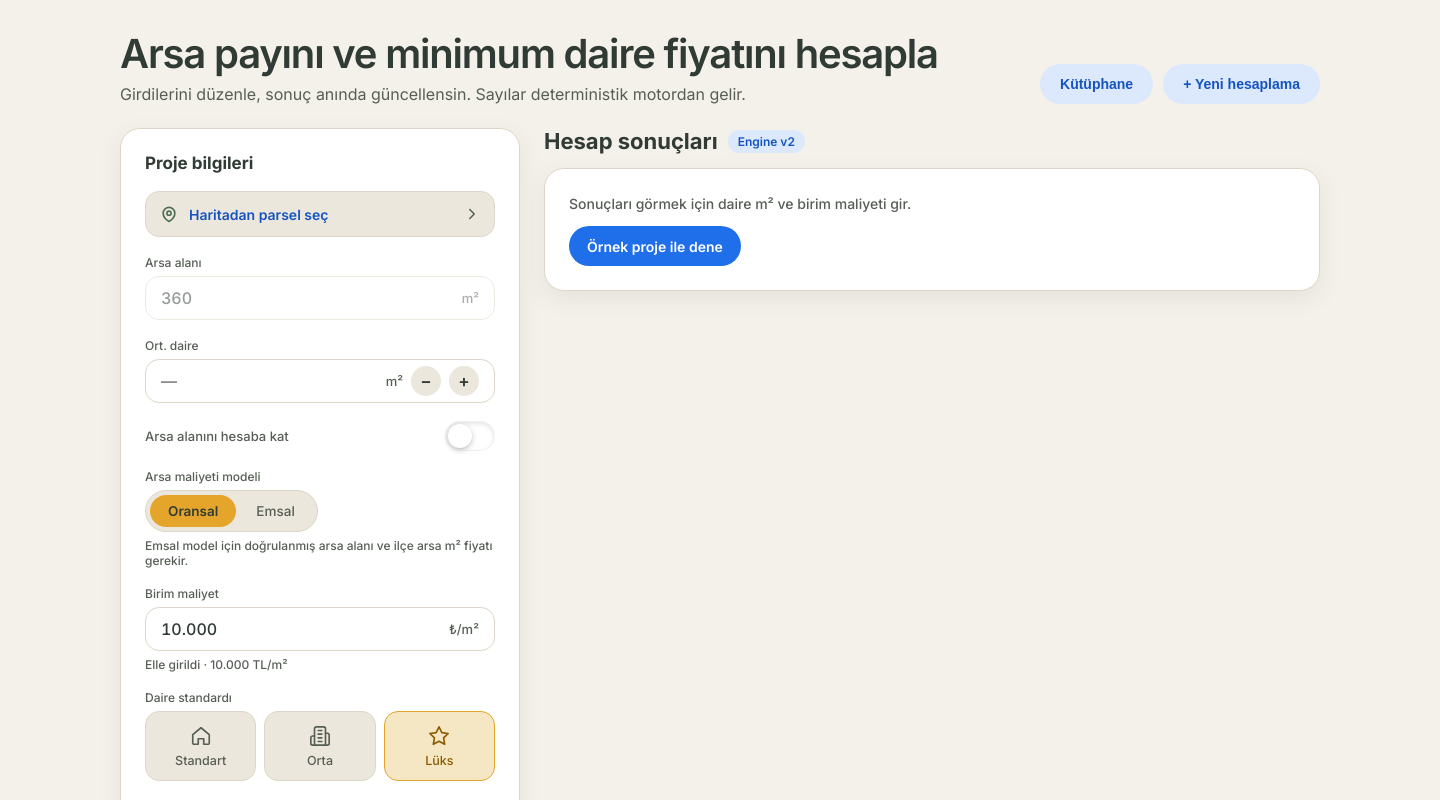
it: /hesapla — masaüstü Yapı Standardı admin katsayılarına bağlı (denetim bulgusu C3) › admin panelinin qualityMedium değeri gerçekten hesaba yansır (artık sabit 1.2 DEĞİL)
Click the button "Örnek proje ile dene" at (655, 246), box top-left (569, 226), bottom-right (741, 266)
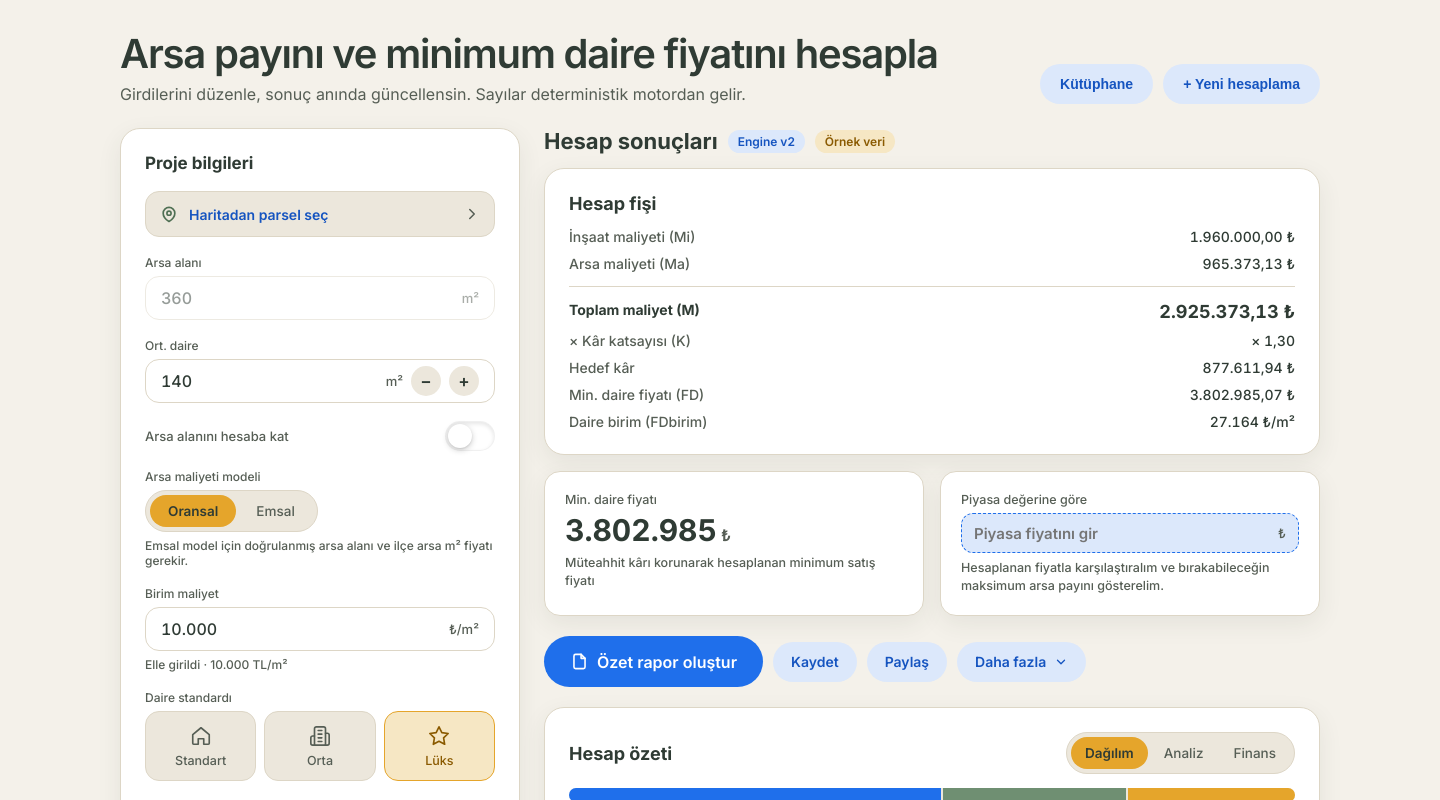
Click the tab "Orta" at (320, 746), box top-left (264, 711), bottom-right (376, 781)
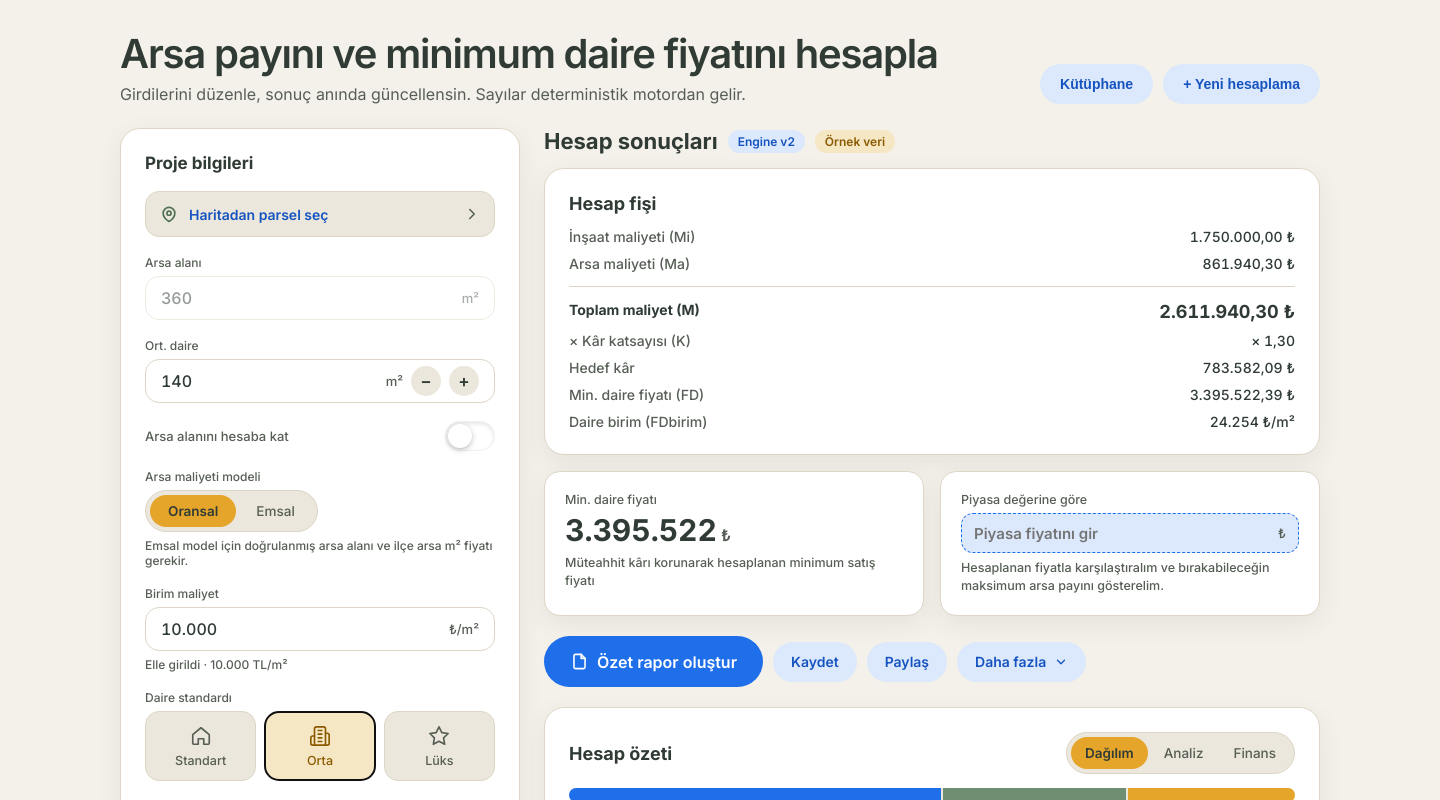
Expected: the text "1.750.000,00 ₺" is shown, top-left (1190, 228), bottom-right (1295, 245)
